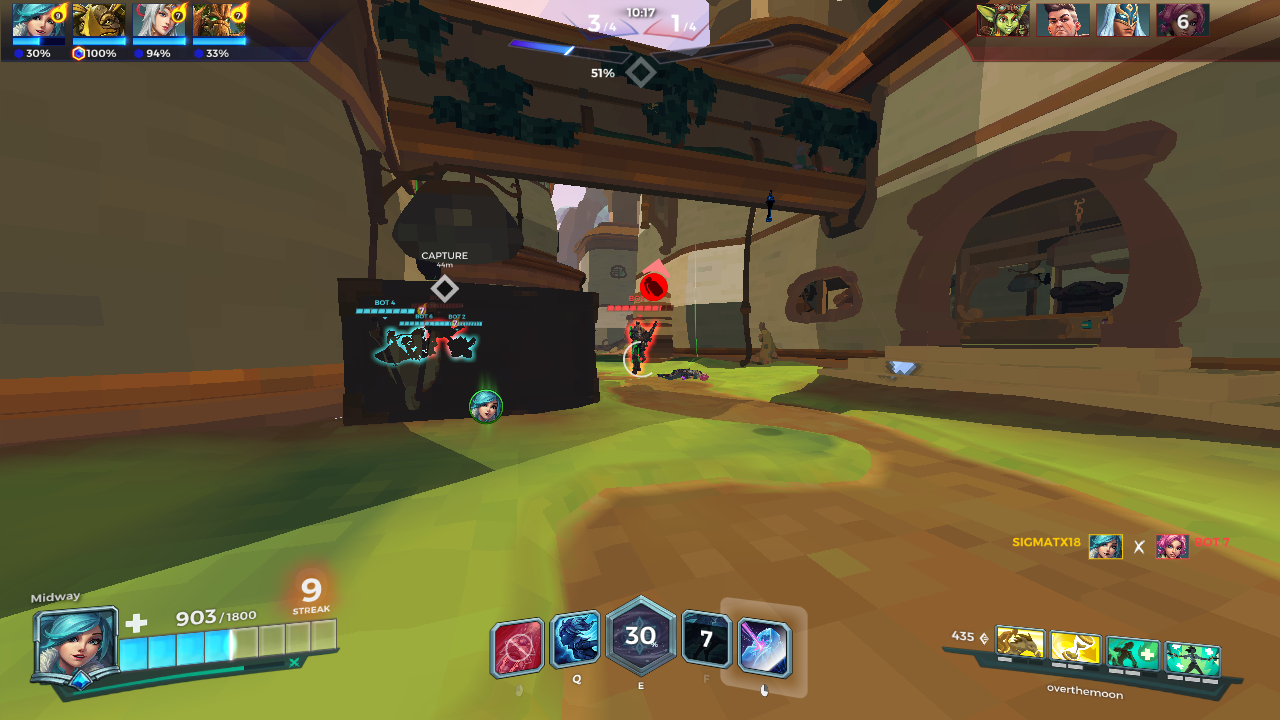model: (620, 315, 663, 370), (422, 321, 469, 362)
